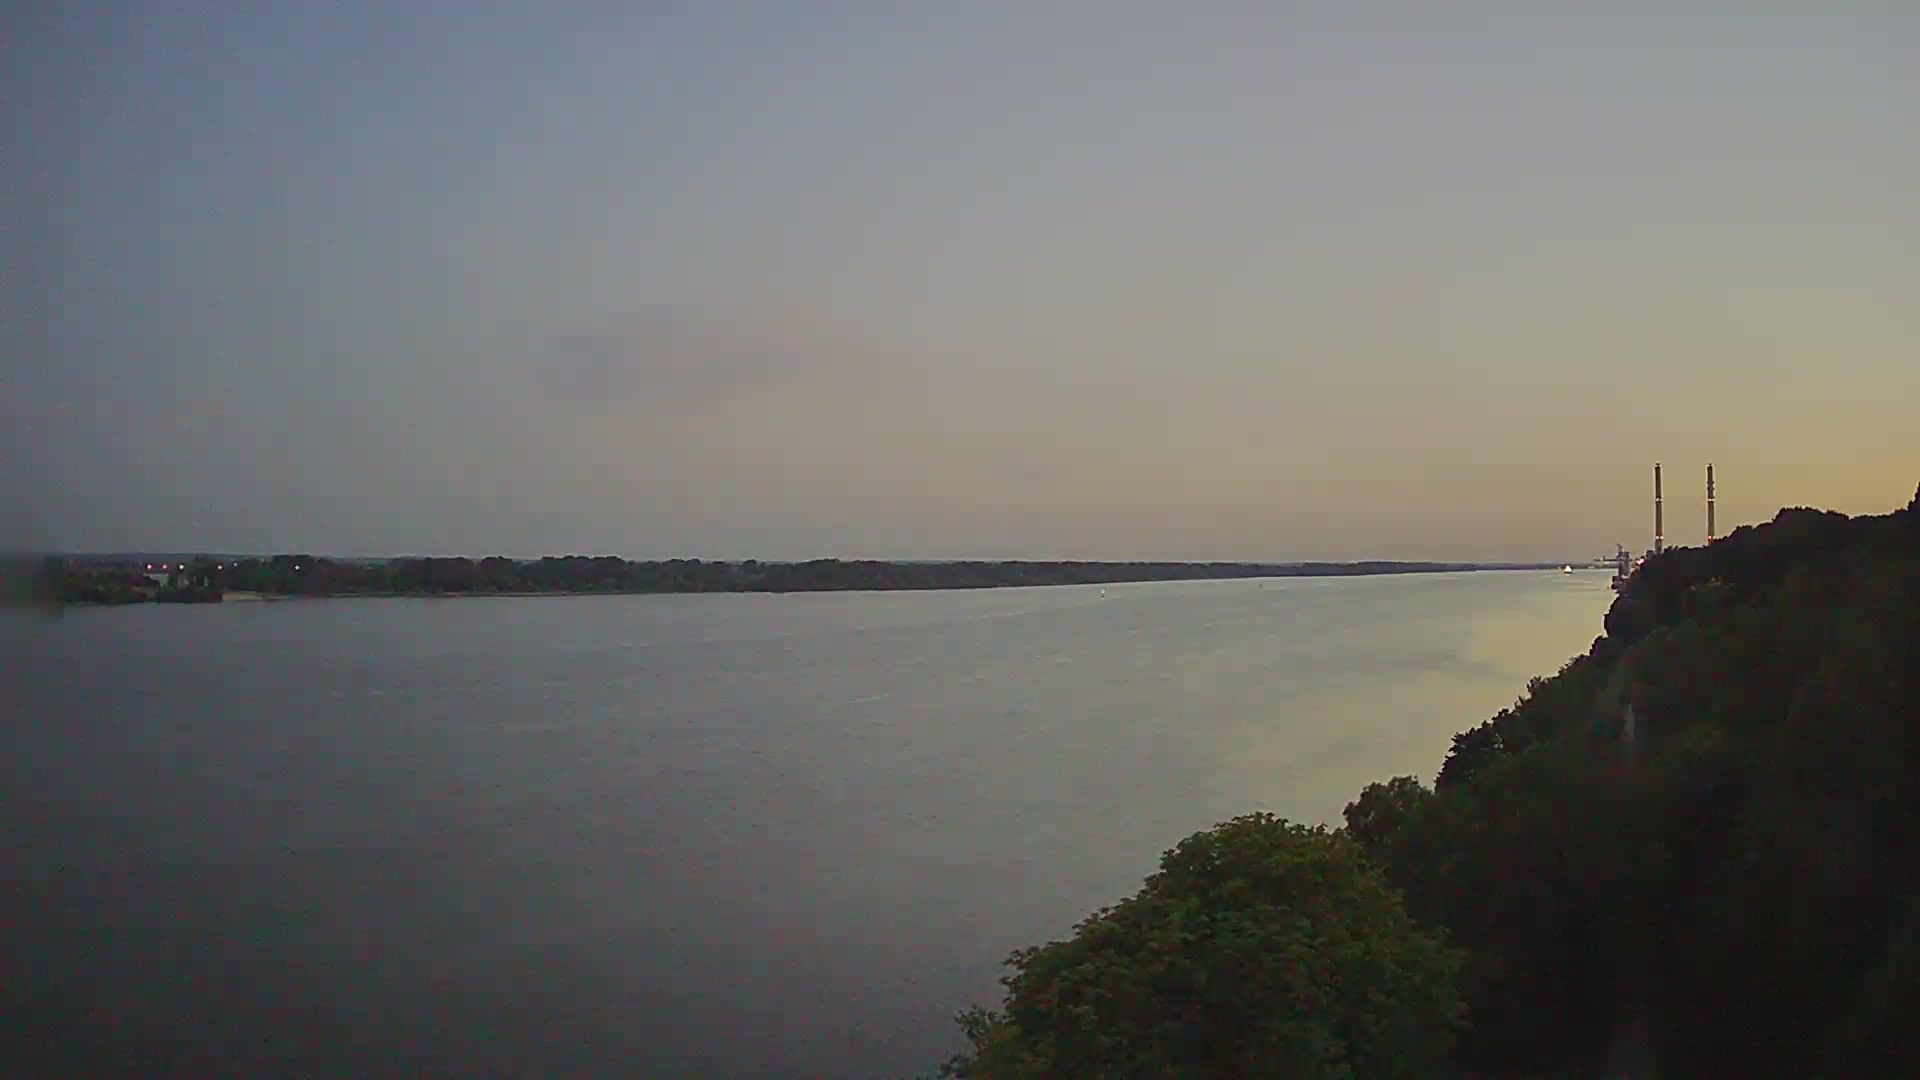sea: (1563, 563, 1575, 574)
